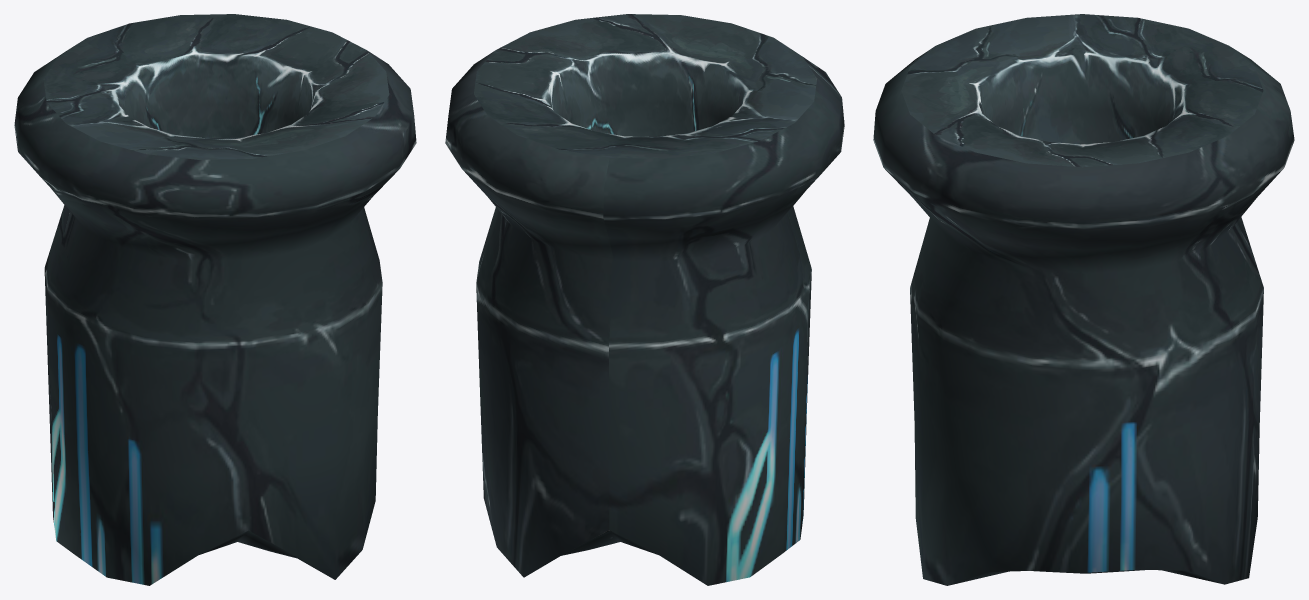
The model's file is pillar_INTERACTABLE_top.fbx.
The picture shows the model from 3 angles, left to right: view 1: azimuth 30°, elevation 25°; view 2: azimuth 150°, elevation 25°; view 3: azimuth 270°, elevation 25°; orthographic projection. The views are drawn at different scales.
Parts seen in each view (by area): view 1: pillar_INTERACTABLE_top; view 2: pillar_INTERACTABLE_top; view 3: pillar_INTERACTABLE_top.
Part boxes in pixels (x1,y1,x2,y2): pillar_INTERACTABLE_top: [14, 14, 416, 585]; pillar_INTERACTABLE_top: [445, 14, 844, 585]; pillar_INTERACTABLE_top: [873, 14, 1294, 585].
Size of the model in its own units: 0.8394 by 1.03 by 0.8384.
Materials: 1 (1 with a texture image).
